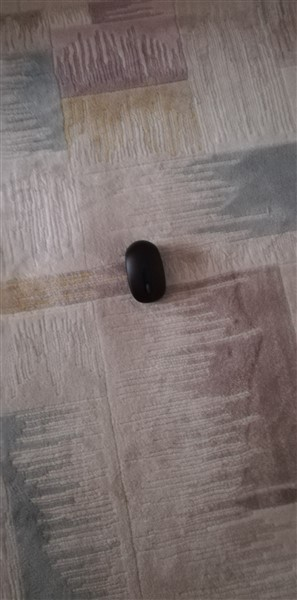mouse: (119, 237, 173, 307)
